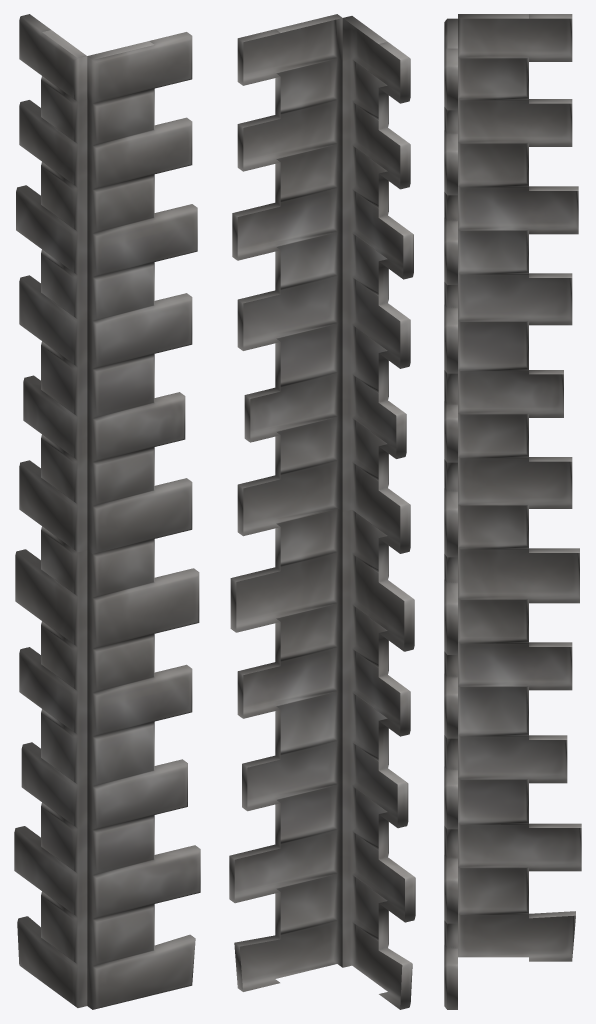
File: PropTrimFacade01_8.FBX
3 renders of one model, left to right at view 1: azimuth 30°, elevation 25°; view 2: azimuth 210°, elevation 25°; view 3: azimuth 270°, elevation 25°, orthographic.
Visible parts, largest first — view 1: PropTrimFacade01_8; view 2: PropTrimFacade01_8; view 3: PropTrimFacade01_8.
Part boxes in pixels (x1,y1,x2,y2): PropTrimFacade01_8: [14, 14, 200, 1009]; PropTrimFacade01_8: [229, 14, 415, 1009]; PropTrimFacade01_8: [444, 14, 581, 1009].
Size of what is drawn, in the model's own units: 0.4625 by 3.5 by 0.4625.
